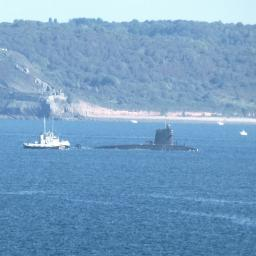submarine: (96, 129, 207, 150)
